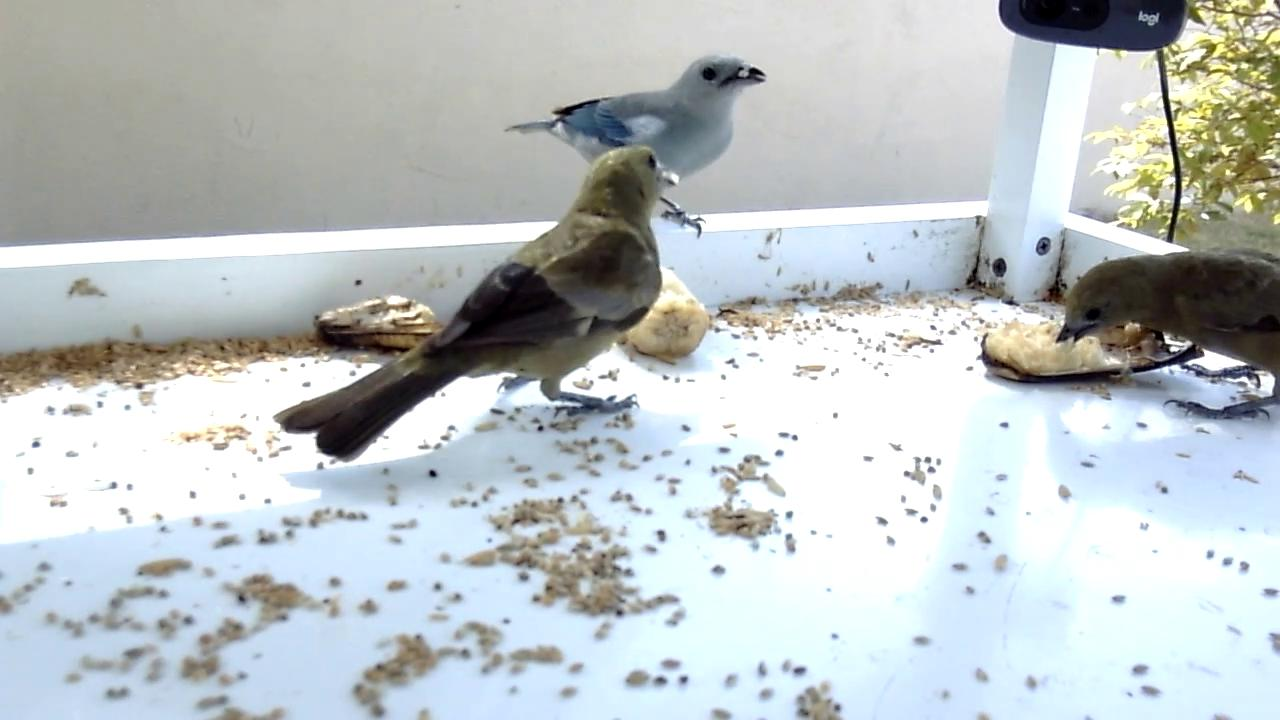sanhaco_da_amazonia: (502, 55, 769, 239)
sanhaco_do_coqueiro: (274, 148, 681, 463), (1057, 243, 1280, 423)
